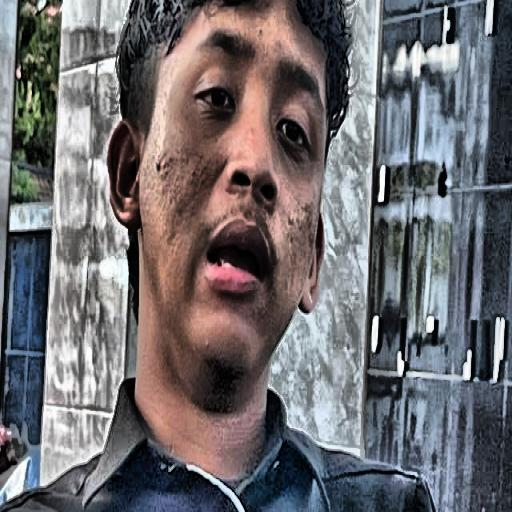Rokok: (0, 0, 436, 512)
